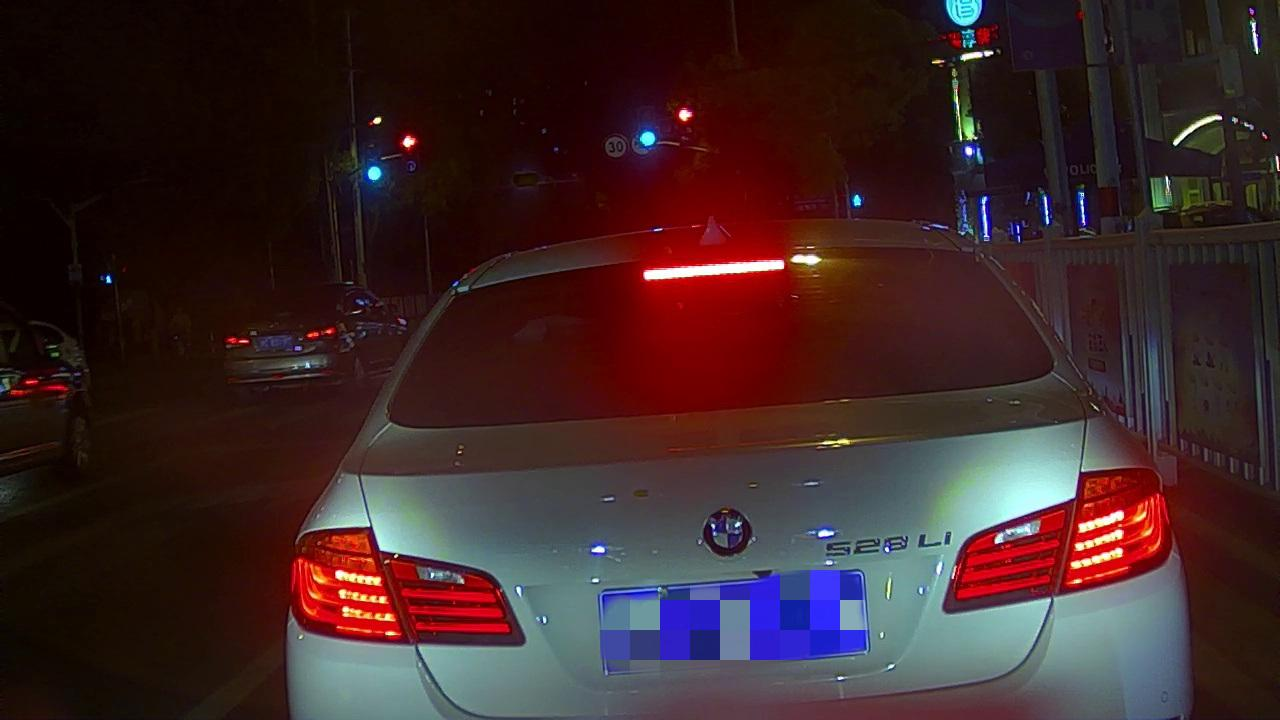traffic_light: (636, 126, 659, 151), (674, 103, 697, 125), (398, 131, 422, 152), (364, 161, 385, 184)
